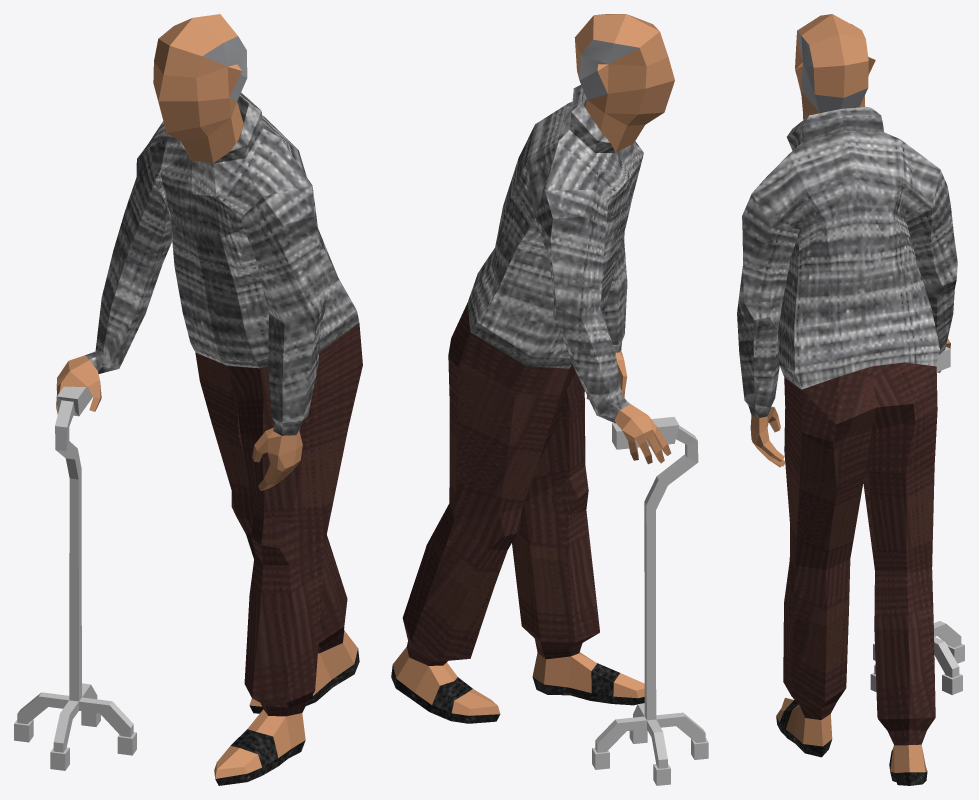
Rendered from Disabled People11.fbx.
The picture shows the model from 3 angles, left to right: view 1: azimuth 30°, elevation 25°; view 2: azimuth 150°, elevation 25°; view 3: azimuth 270°, elevation 25°; orthographic projection. The views are drawn at different scales.
Visible parts, largest first — view 1: OfficeManC.016; view 2: OfficeManC.016; view 3: OfficeManC.016.
Boxes of the visible parts, x1=… form: OfficeManC.016: x1=14, y1=14, x2=362, y2=785; OfficeManC.016: x1=391, y1=14, x2=708, y2=785; OfficeManC.016: x1=737, y1=14, x2=964, y2=785.
Bounding box in the file's own units: 74.42 × 165 × 48.66.
